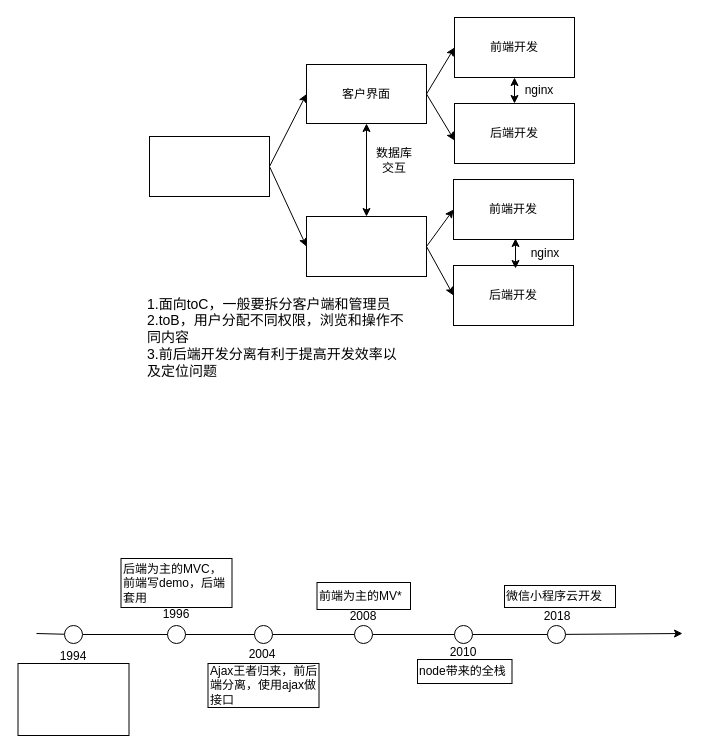
Image size: 708x753. Some labels were removed from this diagram. The shapes that lost their labels are listed below. From the top down, each one's box as (x1, y1, x2, y2) in pixels, then its label:
(148, 136, 270, 196): web开发
(306, 216, 426, 276): 管理员界面
(17, 662, 129, 736): html\js\css相继诞生，不分前后端，页面由JSP、PHP在后端生成，浏览器展示
